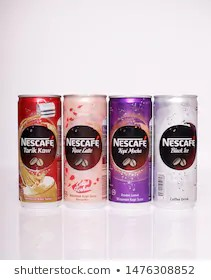nescafe-can: (15, 89, 66, 207), (108, 92, 154, 211), (62, 90, 108, 206), (154, 92, 198, 213)
